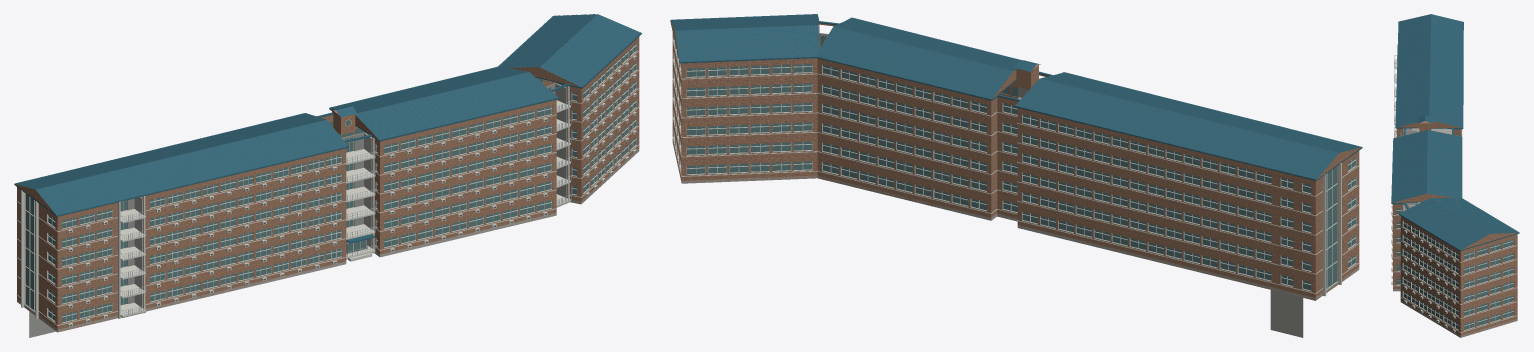
The picture shows the model from 3 angles, left to right: view 1: azimuth 30°, elevation 25°; view 2: azimuth 150°, elevation 25°; view 3: azimuth 270°, elevation 25°; orthographic projection. The views are drawn at different scales.
Visible parts, largest first — view 1: seyeon-3__brick, seyeon-3__gableRoofs, seyeon-3__roomGlass, seyeon-3__frame, seyeon-3__storeyLedges, seyeon-3__reveal, seyeon-3__balconySlabs, seyeon-3__airUnits, seyeon-3__coreUprights, seyeon-3__roofSeams, seyeon-3__balconyDeepSideReturns, seyeon-3__foundation (+9 smaller); view 2: seyeon-3__brick, seyeon-3__gableRoofs, seyeon-3__roomGlass, seyeon-3__frame, seyeon-3__storeyLedges, seyeon-3__reveal, seyeon-3__roofSeams, seyeon-3__foundation, seyeon-3__roofGutter, seyeon-3__foundationRetainingSkirt_astra10, seyeon-3__coreUprights, seyeon-3__coreGlass (+1 smaller); view 3: seyeon-3__gableRoofs, seyeon-3__brick, seyeon-3__roomGlass, seyeon-3__frame, seyeon-3__storeyLedges, seyeon-3__reveal, seyeon-3__roofGutter, seyeon-3__gableEnds, seyeon-3__airUnits, seyeon-3__foundation, seyeon-3__roofSeams, seyeon-3__balconySlabs (+2 smaller).
Part boxes in pixels (box(x1,y1,x2,y2)): seyeon-3__brick: box(17, 37, 639, 331); seyeon-3__gableRoofs: box(14, 14, 640, 215); seyeon-3__roomGlass: box(48, 44, 635, 322); seyeon-3__frame: box(25, 43, 636, 322); seyeon-3__storeyLedges: box(16, 50, 639, 325); seyeon-3__reveal: box(24, 42, 637, 323); seyeon-3__balconySlabs: box(120, 100, 570, 317); seyeon-3__airUnits: box(68, 55, 636, 326); seyeon-3__coreUprights: box(21, 85, 569, 318); seyeon-3__roofSeams: box(35, 14, 640, 213); seyeon-3__balconyDeepSideReturns: box(134, 83, 566, 307); seyeon-3__foundation: box(17, 148, 639, 332); seyeon-3__brick: box(672, 23, 1359, 300); seyeon-3__gableRoofs: box(671, 14, 1361, 179); seyeon-3__roomGlass: box(687, 64, 1355, 290); seyeon-3__frame: box(674, 38, 1356, 290); seyeon-3__storeyLedges: box(672, 38, 1359, 293); seyeon-3__reveal: box(673, 35, 1356, 291); seyeon-3__roofSeams: box(671, 14, 1337, 179); seyeon-3__foundation: box(672, 141, 1359, 300); seyeon-3__roofGutter: box(670, 14, 1361, 180); seyeon-3__foundationRetainingSkirt_astra10: box(1270, 290, 1303, 337); seyeon-3__coreUprights: box(818, 24, 1341, 296); seyeon-3__coreGlass: box(1326, 166, 1336, 288); seyeon-3__gableRoofs: box(1392, 14, 1518, 249); seyeon-3__brick: box(1393, 128, 1517, 337); seyeon-3__roomGlass: box(1396, 132, 1513, 329); seyeon-3__frame: box(1396, 133, 1513, 330); seyeon-3__storeyLedges: box(1392, 129, 1517, 332); seyeon-3__reveal: box(1397, 214, 1514, 330); seyeon-3__roofGutter: box(1391, 22, 1519, 250); seyeon-3__gableEnds: box(1393, 121, 1517, 249); seyeon-3__airUnits: box(1391, 129, 1455, 332); seyeon-3__foundation: box(1393, 128, 1517, 337); seyeon-3__roofSeams: box(1402, 44, 1516, 248); seyeon-3__balconySlabs: box(1394, 59, 1396, 137).
Bounding box in the file's own units: 114 × 30.65 × 26.92.
Materials: 12 (1 with a texture image).
